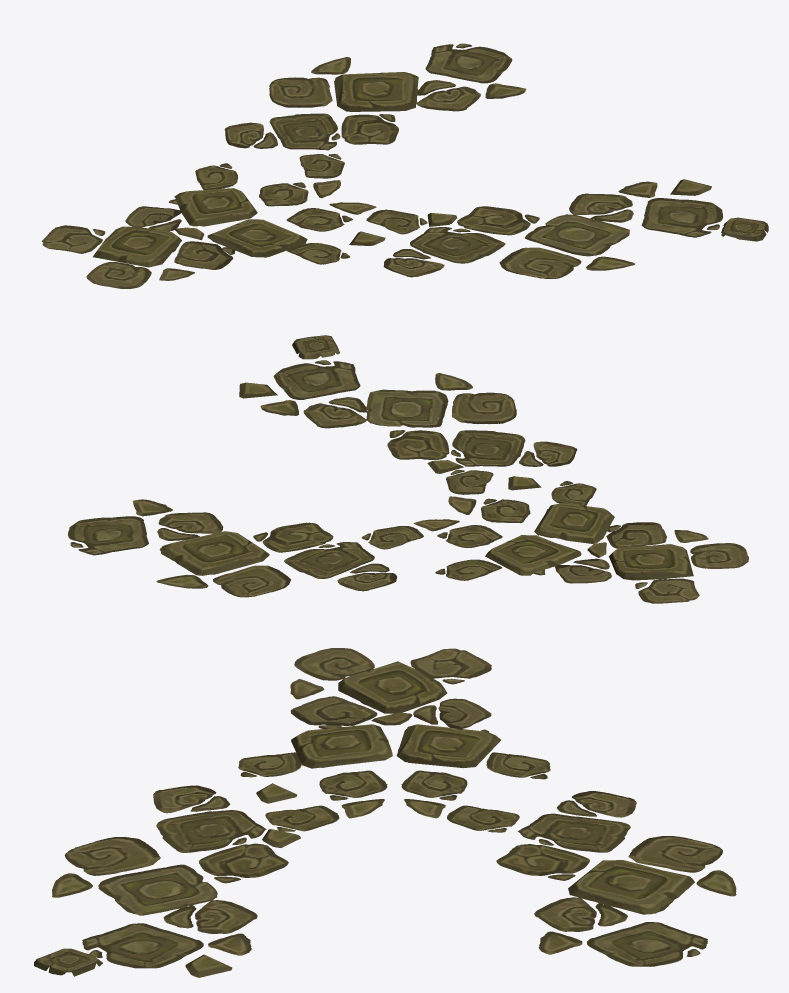
Rendered from pavers_y_01.fbx.
The picture shows the model from 3 angles, top to bottom: view 1: azimuth 30°, elevation 25°; view 2: azimuth 150°, elevation 25°; view 3: azimuth 270°, elevation 25°; orthographic projection. The views are drawn at different scales.
Visible parts, largest first — view 1: obj1.034; view 2: obj1.034; view 3: obj1.034.
Part boxes in pixels (bbox=[...]): obj1.034: bbox=[42, 43, 768, 288]; obj1.034: bbox=[68, 335, 748, 603]; obj1.034: bbox=[34, 648, 736, 977].
Size of the model in its own units: 15.49 by 0.1225 by 15.
